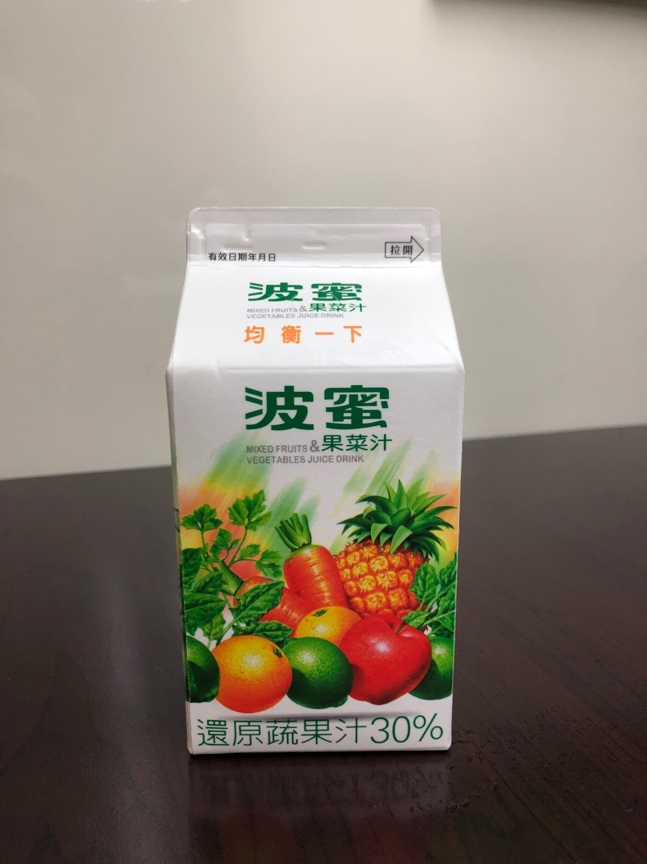vegetables juice: (138, 187, 469, 776)
